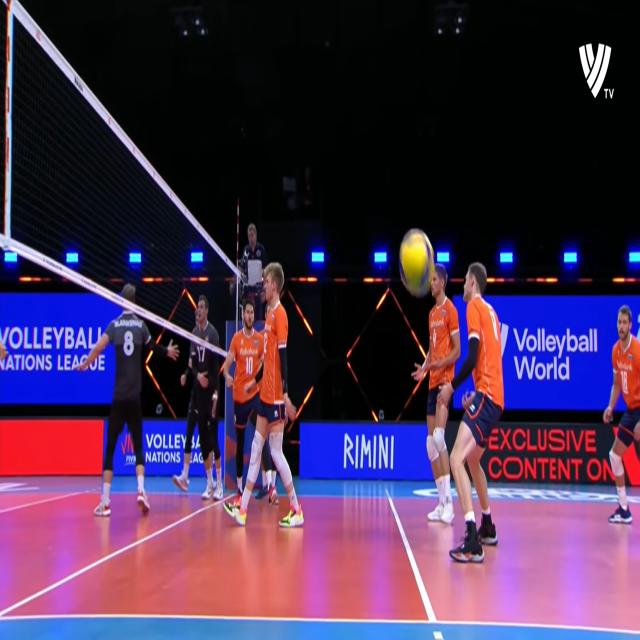player: (77, 276, 162, 527), (449, 258, 507, 567), (258, 262, 308, 538), (425, 263, 461, 529), (221, 288, 262, 503), (602, 304, 640, 532), (189, 288, 227, 495)
